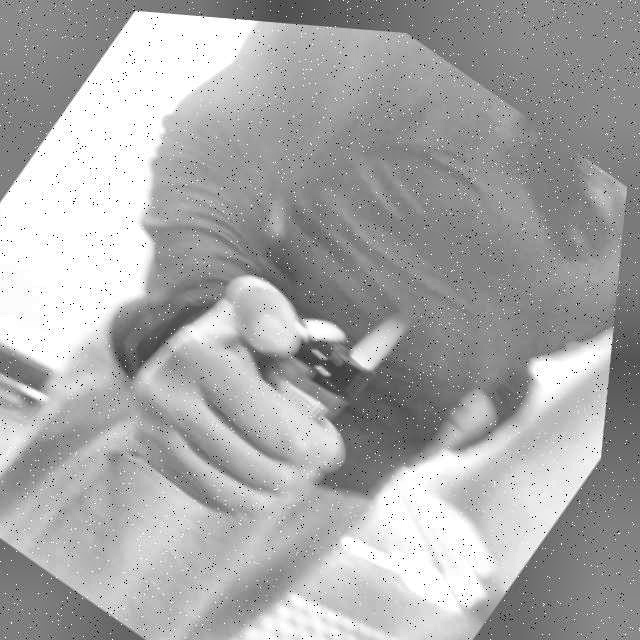Fire: (348, 297, 418, 373)
